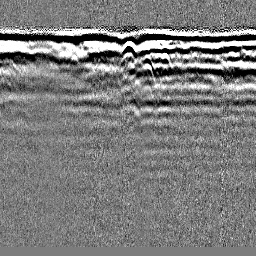cavity: (120, 38, 136, 56)
